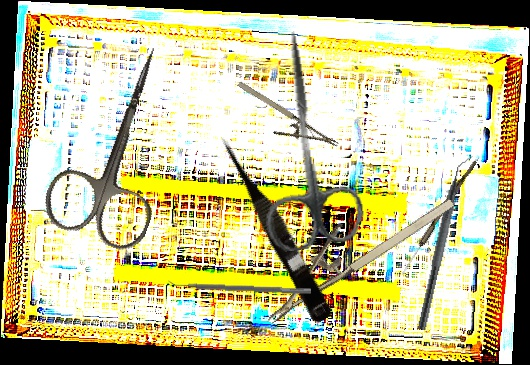Chopper: (417, 152, 475, 333)
Iris Scissors: (36, 30, 207, 257), (240, 25, 369, 254)
Micro Scissor: (213, 129, 338, 325)
Needle Holder: (243, 168, 458, 326), (226, 78, 340, 167)
Spatula Surgical: (167, 277, 312, 295)
Surgical Spoon: (399, 158, 478, 277)
